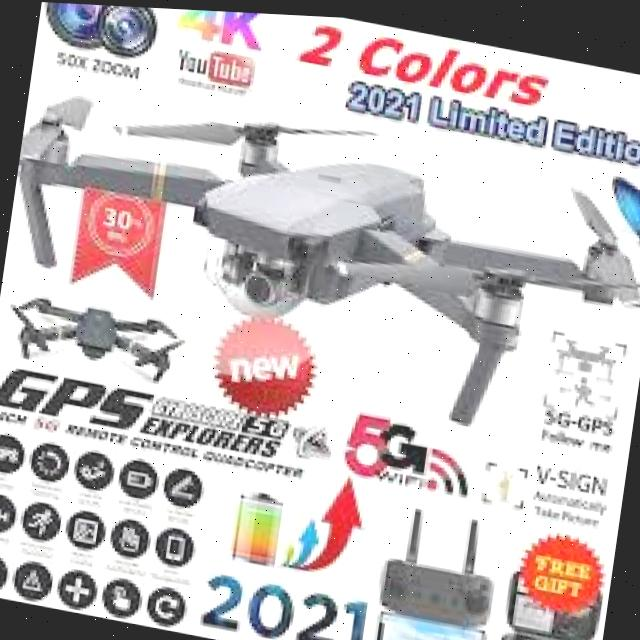drone: (0, 45, 640, 452), (2, 271, 196, 403)
